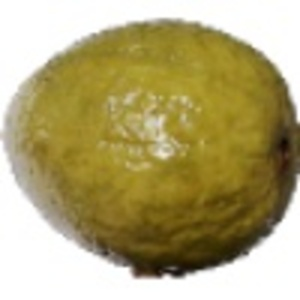goiaba: (4, 14, 299, 289)
